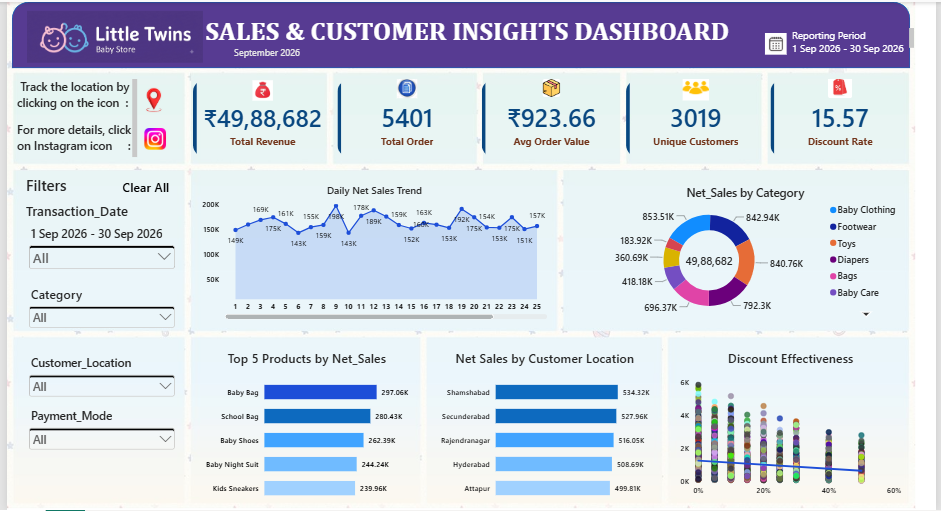

The page's visual inventory and layout, read from the dashboard file:
{"tool":"powerbi","page":{"name":"Page 1","canvas":[1500,820],"ordinal":0},"visuals":[{"type":"image","box":[0,0,1465.7,816.8],"z":0},{"type":"cardVisual","fields":{"Data":["Little_Twins_September_2026.Total Revenue","Little_Twins_September_2026.Total Order","Little_Twins_September_2026.Avg Order Value","Little_Twins_September_2026.Unique Customers","Little_Twins_September_2026.Discount Rate"]},"box":[301,123.7,1158.9,127.1],"z":1000},{"type":"shape","box":[8.4,0,1449.7,106.8],"z":2000},{"type":"textbox","box":[316.4,21,853.9,77.5],"z":3000},{"type":"textbox","box":[1267.6,41.8,196.9,43.6],"z":4000},{"type":"image","box":[32.3,3.2,284.1,106.5],"z":5000},{"type":"image","box":[1215.7,50.2,51.7,35],"z":6000},{"type":"lineChart","title":"Daily Net Sales Trend","fields":{"Category":["Little_Twins_September_2026.Transaction_Date.Variation.Date Hierarchy.Day"],"Y":["Little_Twins_September_2026.Total Revenue"]},"box":[299.3,279.3,589.2,248.6],"z":7000},{"type":"donutChart","title":"Net_Sales by Category","fields":{"Category":["Little_Twins_September_2026.Category"],"Y":["Sum(Little_Twins_September_2026.Net_Sales)"]},"box":[923.1,280.9,536.8,247.5],"z":8000},{"type":"clusteredBarChart","title":"Top 5 Products by Net_Sales","fields":{"Category":["Little_Twins_September_2026.Product"],"Y":["Sum(Little_Twins_September_2026.Net_Sales)"]},"box":[302.7,546.8,361.2,272.6],"z":9000},{"type":"clusteredBarChart","title":"Net Sales by Customer Location","fields":{"Category":["Little_Twins_September_2026.Customer_Location"],"Y":["Little_Twins_September_2026.Total Revenue"]},"box":[683,546.8,370.8,272.3],"z":10000},{"type":"scatterChart","title":"Discount Effectiveness","fields":{"Category":["Little_Twins_September_2026.Transaction_ID"],"X":["Little_Twins_September_2026.Discount Rate:"],"Y":["Sum(Little_Twins_September_2026.Net_Sales)"]},"box":[1070.2,546.8,389.6,271],"z":11000},{"type":"slicer","title":"Transaction_Date","fields":{"Values":["Little_Twins_September_2026.Transaction_Date"]},"box":[31.4,322.6,245.1,134.1],"z":12000},{"type":"textbox","box":[31.4,278.6,77.5,33.5],"z":13000},{"type":"slicer","fields":{"Values":["Little_Twins_September_2026.Category"]},"box":[31.4,456.7,245.1,71.2],"z":14000},{"type":"slicer","fields":{"Values":["Little_Twins_September_2026.Customer_Location"]},"box":[31.4,569.8,245.1,85.9],"z":15000},{"type":"slicer","fields":{"Values":["Little_Twins_September_2026.Payment_Mode"]},"box":[31.4,655.7,245.1,85.9],"z":16000},{"type":"actionButton","box":[173.9,278.6,100,40],"z":17000},{"type":"shape","box":[16.7,117.1,260.9,138.8],"z":18000},{"type":"image","box":[212,135,51.8,45],"z":19000},{"type":"image","box":[215,204,48.5,35.1],"z":20000},{"type":"textbox","box":[16.7,123.7,194,132.1],"z":21000}]}

Visuals, with their boxes in screenshot pixels (x1, y1, x2, y2), scaled from the page's 1500x820 canvas onto the 941x511 screenshot:
image: x1=0, y1=0, x2=919, y2=509
cardVisual - Little_Twins_September_2026.Total Revenue x Little_Twins_September_2026.Total Order: x1=189, y1=77, x2=916, y2=156
shape: x1=5, y1=0, x2=915, y2=67
textbox: x1=198, y1=13, x2=734, y2=61
textbox: x1=795, y1=26, x2=919, y2=53
image: x1=20, y1=2, x2=198, y2=68
image: x1=763, y1=31, x2=795, y2=53
"Daily Net Sales Trend" lineChart: x1=188, y1=174, x2=557, y2=329
"Net_Sales by Category" donutChart: x1=579, y1=175, x2=916, y2=329
"Top 5 Products by Net_Sales" clusteredBarChart: x1=190, y1=341, x2=416, y2=510
"Net Sales by Customer Location" clusteredBarChart: x1=428, y1=341, x2=661, y2=510
"Discount Effectiveness" scatterChart: x1=671, y1=341, x2=916, y2=510
"Transaction_Date" slicer: x1=20, y1=201, x2=173, y2=285
textbox: x1=20, y1=174, x2=68, y2=194
slicer - Little_Twins_September_2026.Category: x1=20, y1=285, x2=173, y2=329
slicer - Little_Twins_September_2026.Customer_Location: x1=20, y1=355, x2=173, y2=409
slicer - Little_Twins_September_2026.Payment_Mode: x1=20, y1=409, x2=173, y2=462
actionButton: x1=109, y1=174, x2=172, y2=199
shape: x1=10, y1=73, x2=174, y2=159
image: x1=133, y1=84, x2=165, y2=112
image: x1=135, y1=127, x2=165, y2=149
textbox: x1=10, y1=77, x2=132, y2=159
